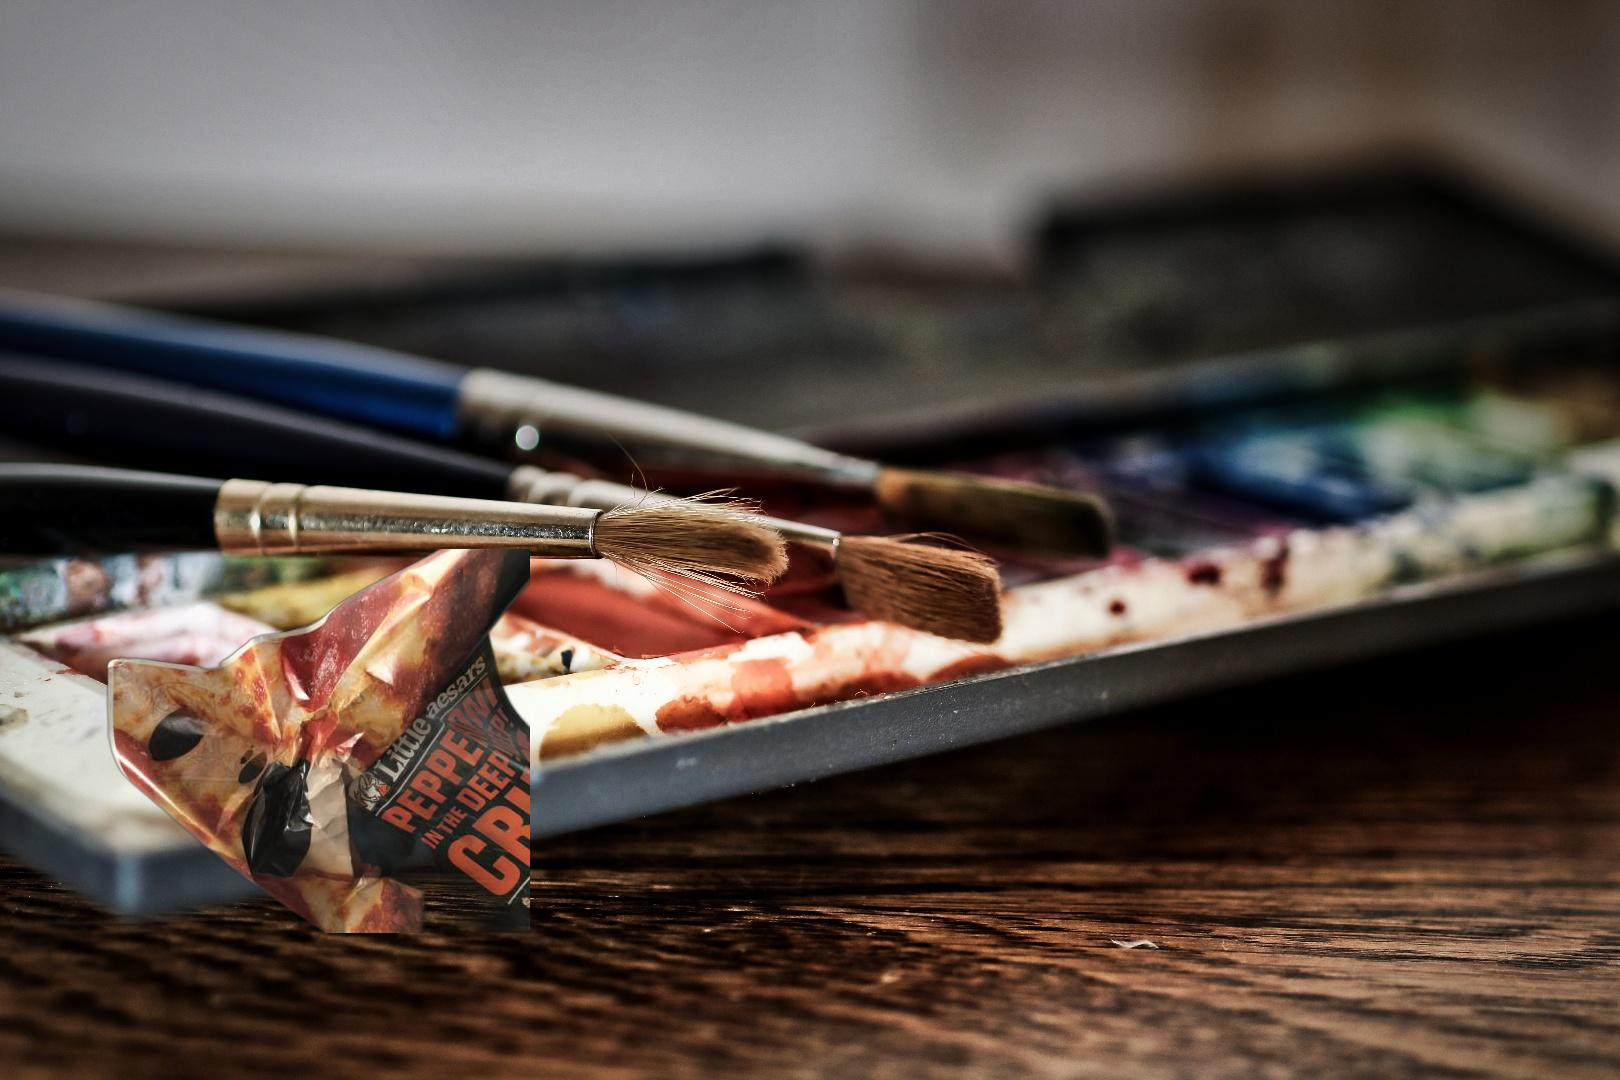paper: (102, 548, 530, 933)
